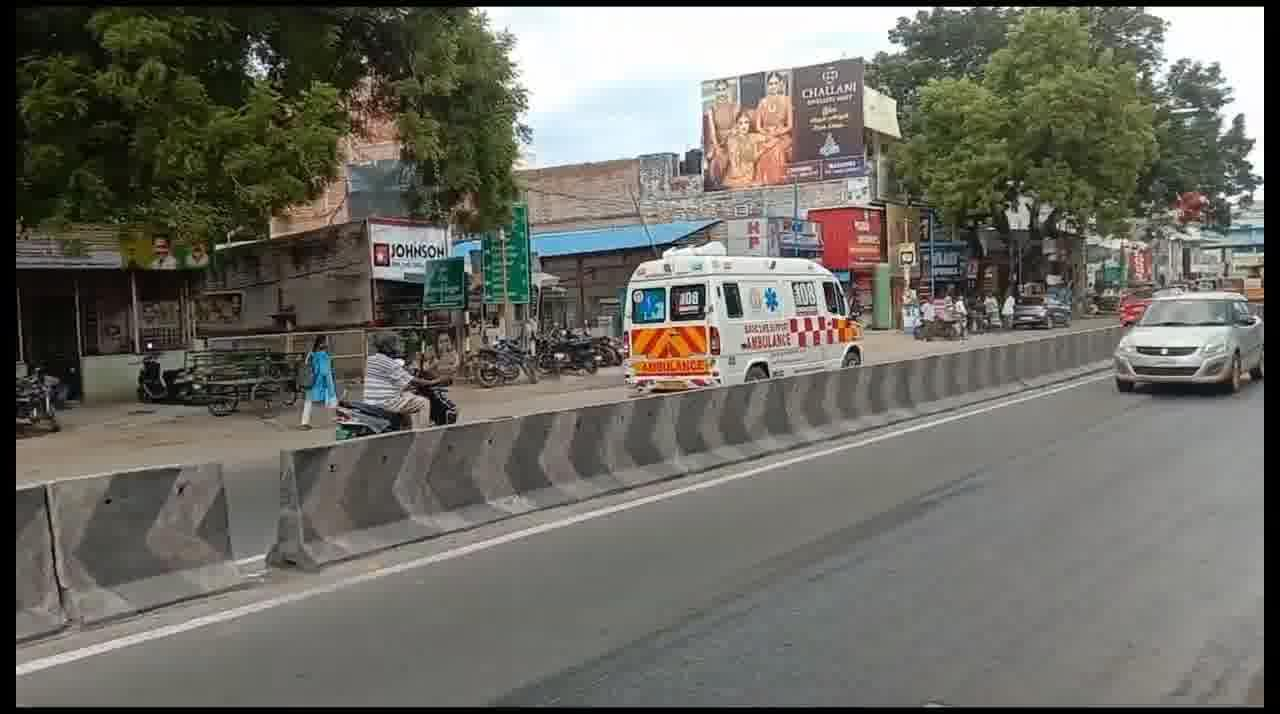AMBULANCE: (622, 239, 887, 386)
